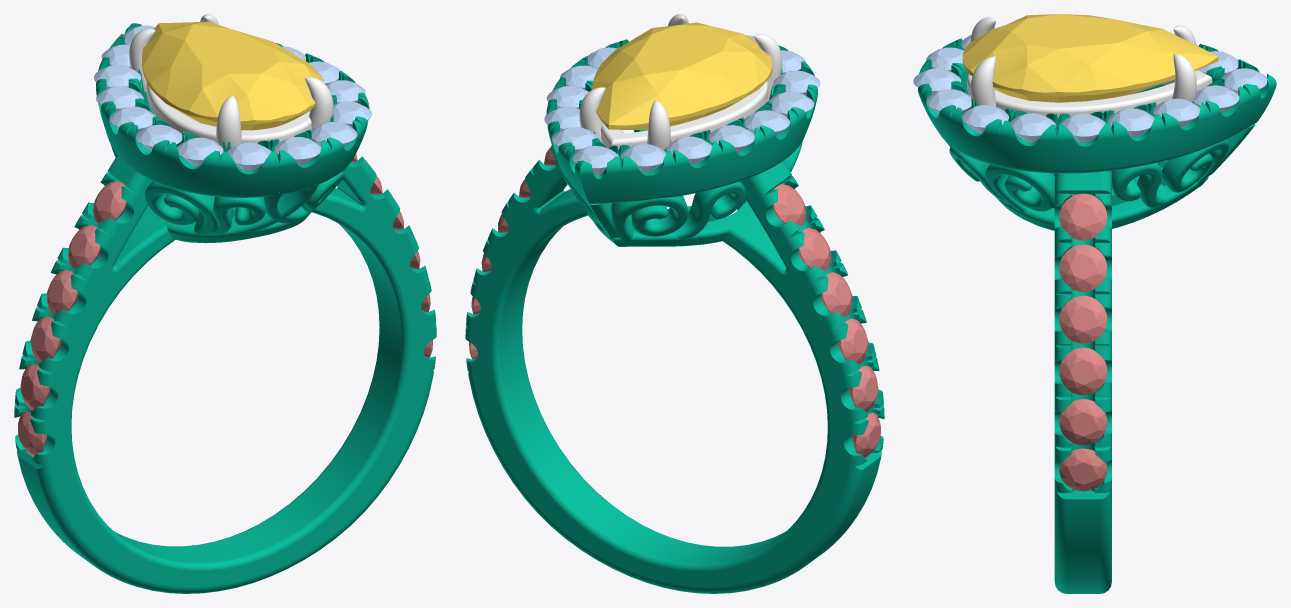
3 renders of one model, left to right at view 1: azimuth 30°, elevation 25°; view 2: azimuth 150°, elevation 25°; view 3: azimuth 270°, elevation 25°, orthographic.
Visible parts, largest first — view 1: Pear diamond halo Ring.3dm, Diamond_Pear, GemOnCrv (×16); view 2: Pear diamond halo Ring.3dm, Diamond_Pear, GemOnCrv (×17); view 3: Pear diamond halo Ring.3dm, GemOnCrv (×16), Diamond_Pear.
Boxes of the visible parts, x1=… form: Pear diamond halo Ring.3dm: x1=14, y1=14, x2=436, y2=593; Diamond_Pear: x1=142, y1=21, x2=323, y2=130; GemOnCrv (×16): x1=18, y1=65, x2=371, y2=456; Pear diamond halo Ring.3dm: x1=465, y1=14, x2=884, y2=593; Diamond_Pear: x1=592, y1=22, x2=772, y2=130; GemOnCrv (×17): x1=544, y1=65, x2=880, y2=457; Pear diamond halo Ring.3dm: x1=917, y1=17, x2=1276, y2=593; GemOnCrv (×16): x1=913, y1=47, x2=1267, y2=491; Diamond_Pear: x1=962, y1=14, x2=1218, y2=102.
Bounding box in the file's own units: 2.24 × 2.83 × 1.73.
